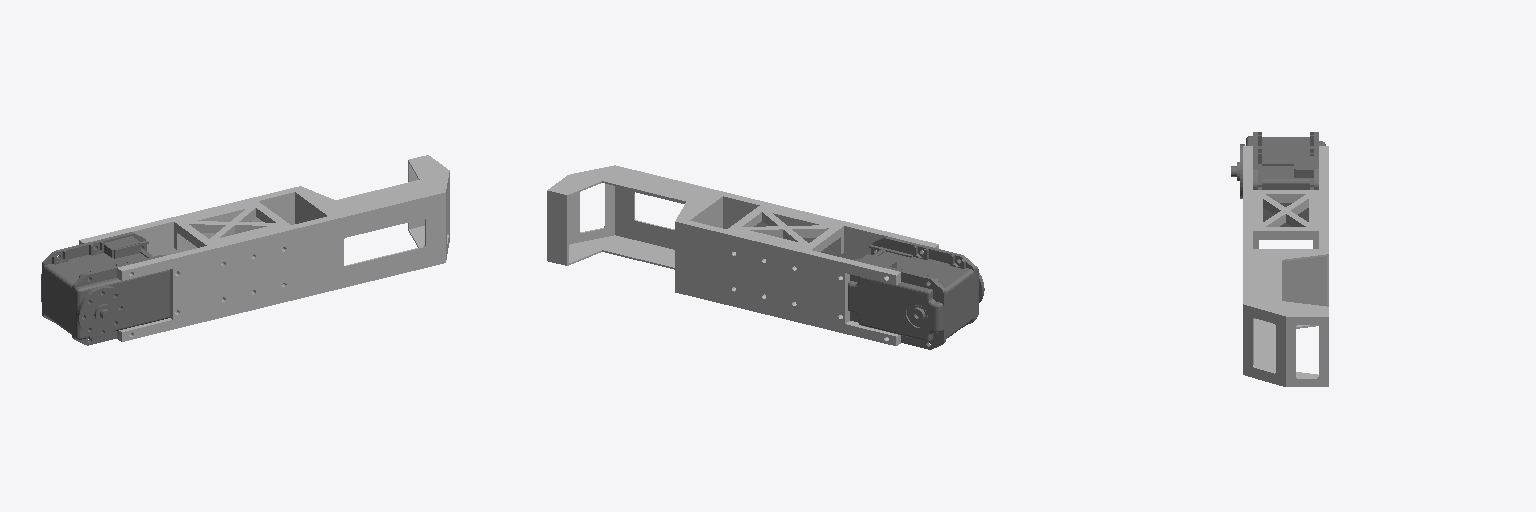
File: ARMlower.obj
3 renders of one model, left to right at view 1: azimuth 30°, elevation 25°; view 2: azimuth 150°, elevation 25°; view 3: azimuth 270°, elevation 25°, orthographic.
Bounding box in the file's own units: 23.37 × 4.02 × 5.